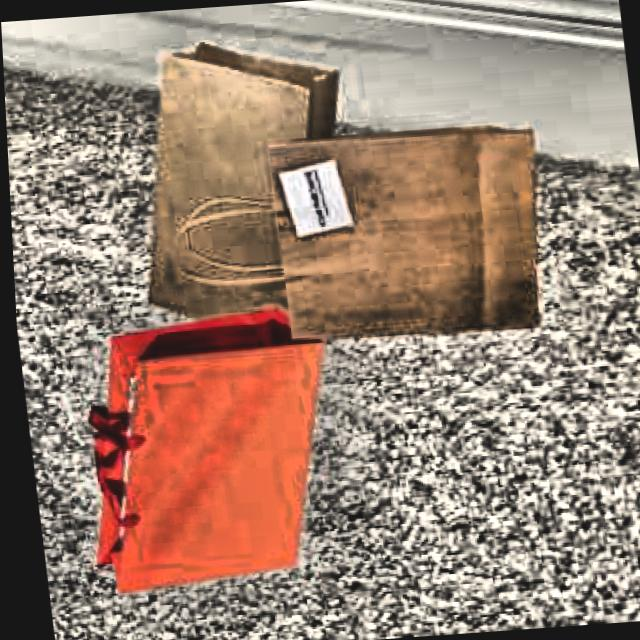Paper-bag: (40, 293, 351, 607), (250, 110, 572, 377), (108, 31, 364, 354)
